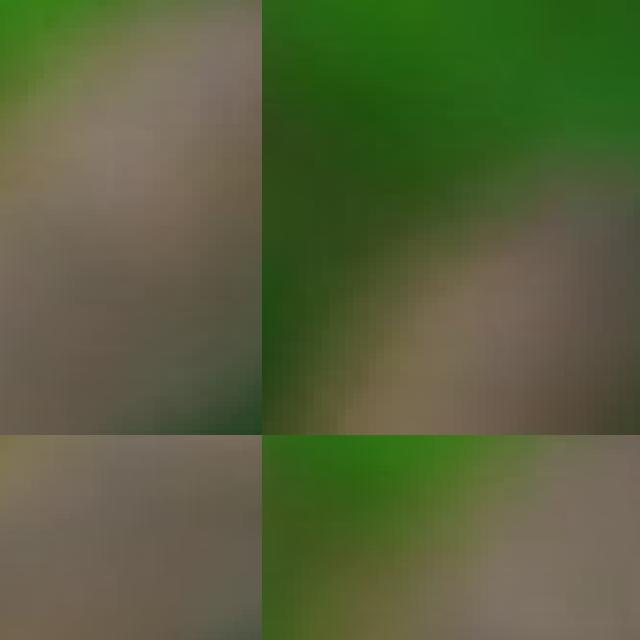fish: (262, 115, 640, 435), (0, 0, 262, 435)
